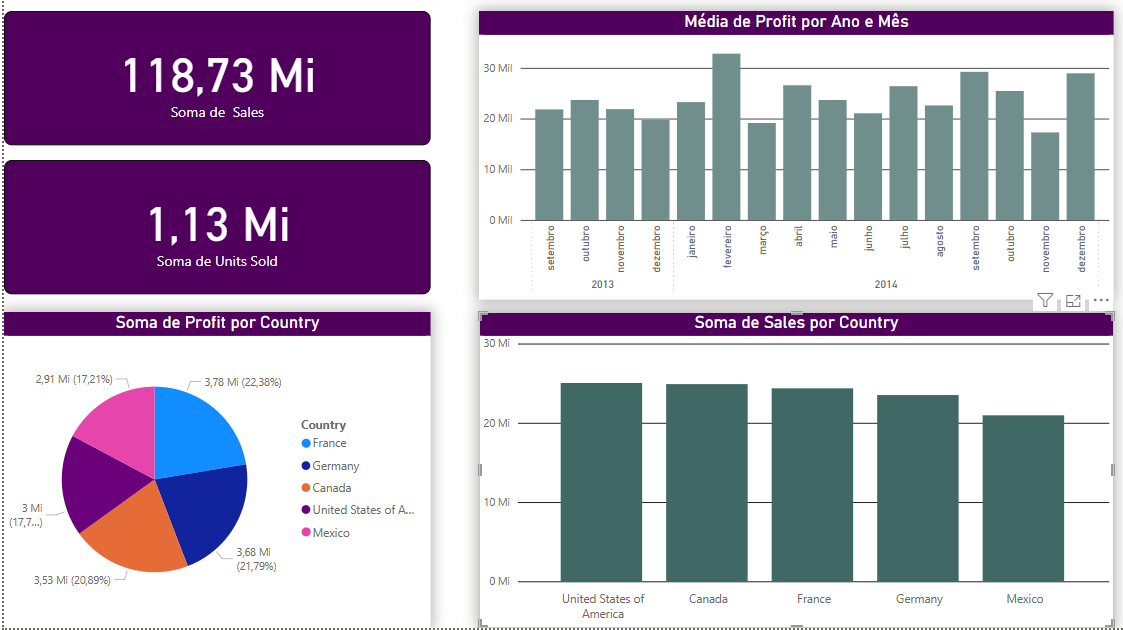

The dashboard page shown, as its layout file describes it:
{"tool":"powerbi","page":{"name":"Página 2","canvas":[1280,720],"ordinal":1},"visuals":[{"type":"card","fields":{"Values":["Sum(financials. Sales)"]},"box":[0,17.1,486.5,152.7],"z":0},{"type":"card","fields":{"Values":["Sum(financials.Units Sold)"]},"box":[0,186.8,486.5,152.7],"z":1000},{"type":"pieChart","fields":{"Y":["Sum(financials.Profit)"],"Category":["financials.Country"]},"box":[0,360,486.5,360],"z":2000},{"type":"clusteredColumnChart","fields":{"Y":["Avg(financials.Profit)"],"Category":["financials.Date.Variation.Hierarquia de datas.Ano","financials.Date.Variation.Hierarquia de datas.Mês"]},"box":[541.1,17.1,723.4,329.2],"z":3000},{"type":"clusteredColumnChart","fields":{"Y":["Sum(financials. Sales)"],"Category":["financials.Country"]},"box":[541.1,360,723.4,360],"z":4000}]}

Visuals, with their boxes in screenshot pixels (x1, y1, x2, y2), scaled from the page's 1280x720 canvas onto the 1123x630 screenshot:
card - Sum(financials. Sales): crop(0, 15, 427, 149)
card - Sum(financials.Units Sold): crop(0, 163, 427, 297)
pieChart - Sum(financials.Profit) x financials.Country: crop(0, 315, 427, 629)
clusteredColumnChart - Avg(financials.Profit) x financials.Date.Variation.Hierarquia de datas.Ano: crop(475, 15, 1109, 303)
clusteredColumnChart - Sum(financials. Sales) x financials.Country: crop(475, 315, 1109, 629)
